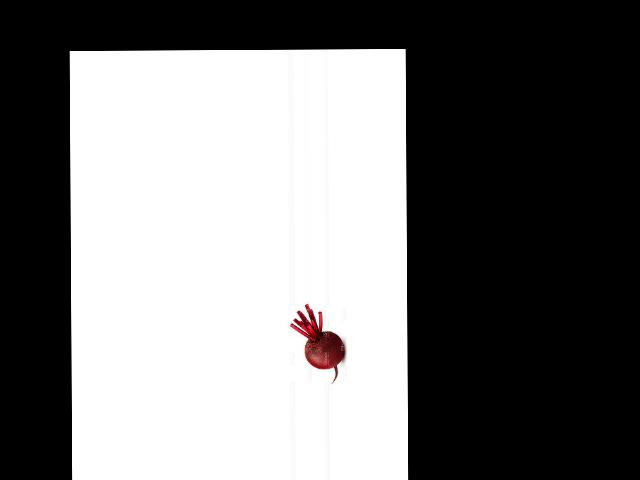beet: (290, 303, 344, 383)
